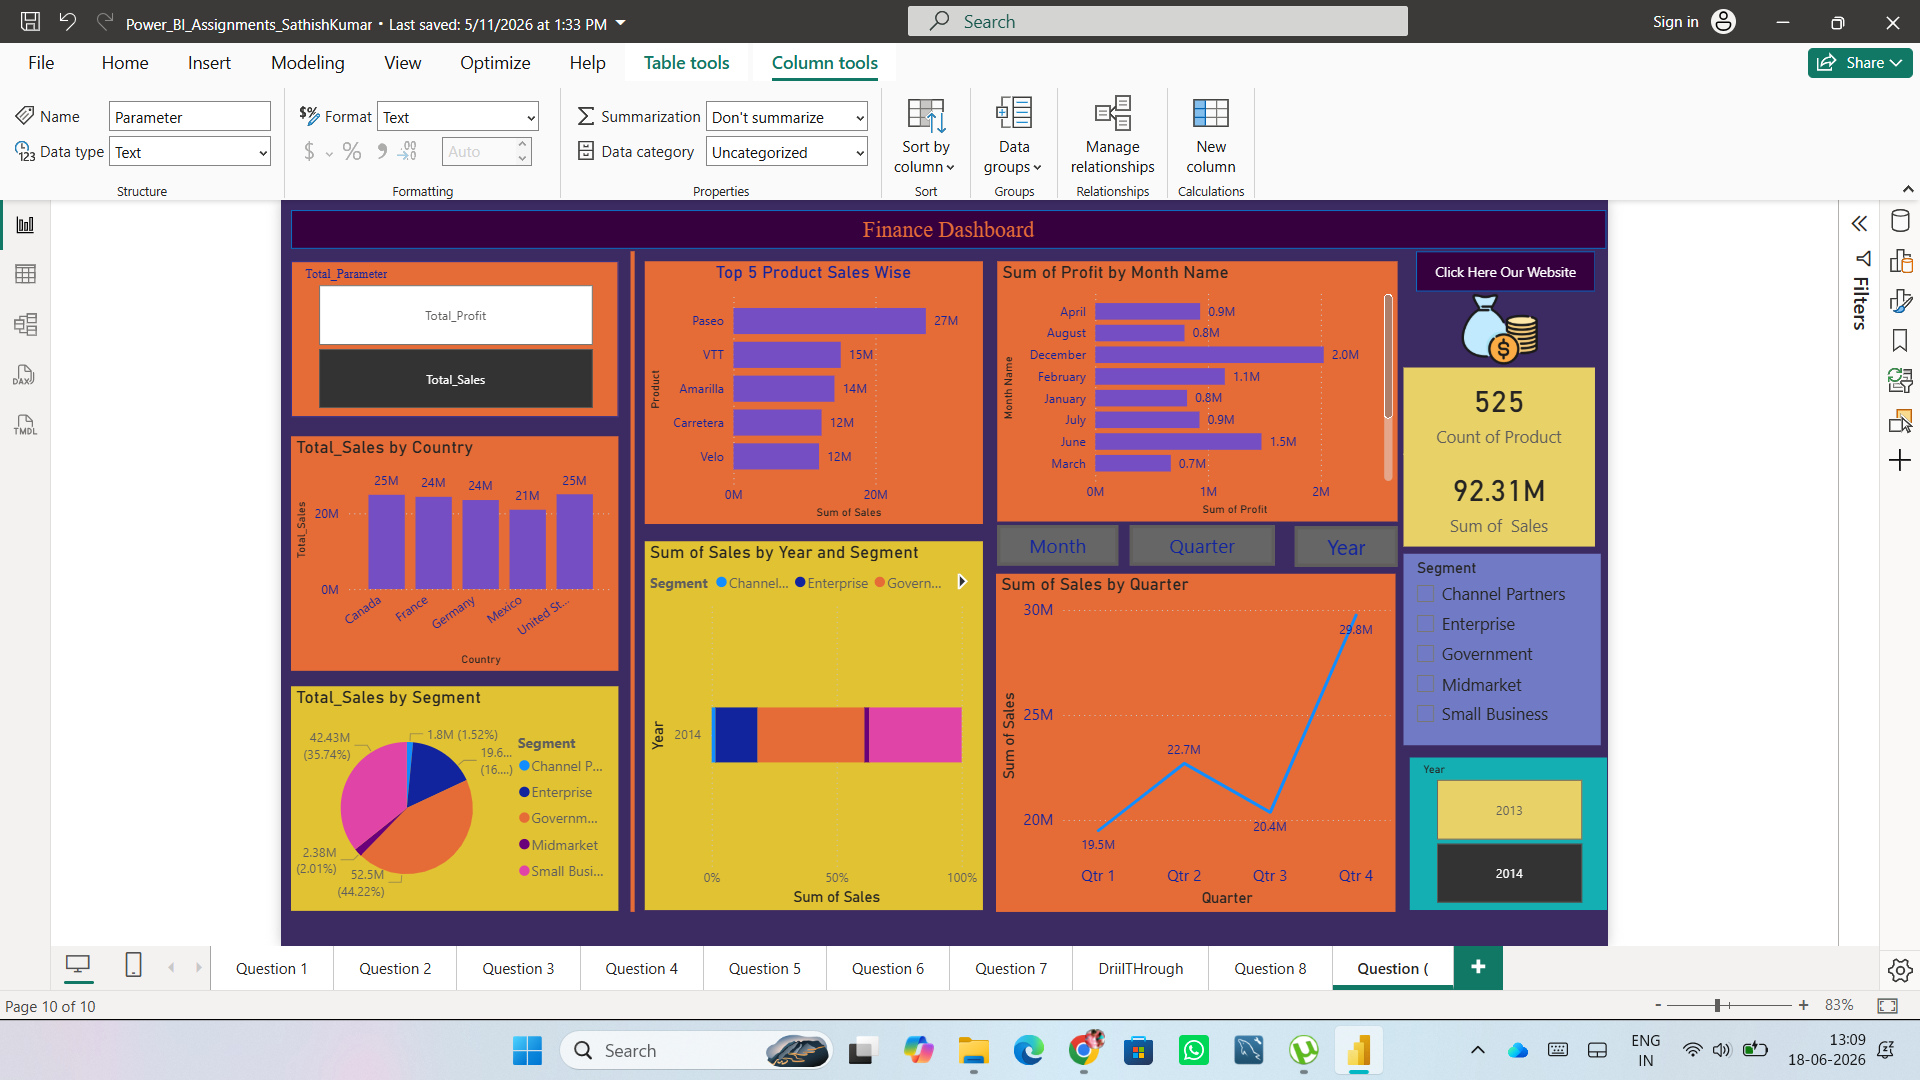

This screenshot's page, from the dashboard's own definition file:
{"tool":"powerbi","page":{"name":"Question (","canvas":[1280,720],"ordinal":9},"visuals":[{"type":"shape","box":[10.1,10.1,1269.6,37.5],"z":0},{"type":"columnChart","fields":{"Y":["financials.Total_Sales"],"Category":["financials.Country"]},"box":[10.1,228,316,226.5],"z":1000},{"type":"slicer","fields":{"Values":["Parameter.Parameter"]},"box":[10.1,59.2,316,150],"z":2000},{"type":"pieChart","fields":{"Y":["financials.Total_Sales"],"Category":["financials.Segment"]},"box":[10.1,468.9,316,216.4],"z":3000},{"type":"clusteredBarChart","title":"Top 5 Product Sales Wise","fields":{"Category":["financials.Product"],"Y":["Sum(financials. Sales)"]},"box":[350.6,59.2,326.1,253.9],"z":4000},{"type":"hundredPercentStackedBarChart","fields":{"Category":["financials.Year"],"Series":["financials.Segment"],"Y":["Sum(financials. Sales)"]},"box":[350.6,328.9,326.1,356.4],"z":5000},{"type":"lineChart","fields":{"Category":["financials.Date.Variation.Date Hierarchy.Year","financials.Date.Variation.Date Hierarchy.Quarter","financials.Date.Variation.Date Hierarchy.Month","financials.Date.Variation.Date Hierarchy.Day"],"Y":["Sum(financials. Sales)"]},"box":[690.4,360.6,386,326.2],"z":6000},{"type":"actionButton","box":[691.1,313.1,116.9,39],"z":7000},{"type":"actionButton","box":[819.5,313.1,139.9,39],"z":8000},{"type":"actionButton","box":[978.2,314.5,99.6,39],"z":9000},{"type":"clusteredBarChart","fields":{"Category":["financials.Month Name"],"Y":["Sum(financials.Profit)"]},"box":[691.1,59.2,386.7,251],"z":10000},{"type":"shape","box":[315.3,48.9,48.9,637.8],"z":11000},{"type":"slicer","fields":{"Values":["financials.Year"]},"box":[1089.3,538.2,190.4,147.2],"z":12000},{"type":"slicer","fields":{"Values":["financials.Segment"]},"box":[1083.5,341.9,190.4,184.7],"z":13000},{"type":"card","fields":{"Values":["Sum(financials. Sales)"]},"box":[1083.5,245.3,184.7,89.5],"z":14000},{"type":"card","fields":{"Values":["CountNonNull(financials.Product)"]},"box":[1083.5,161.6,184.7,83.7],"z":15000},{"type":"image","box":[1095.1,88,161.6,73.6],"z":16000},{"type":"shape","box":[1095.1,49.1,173.1,39],"z":17000}]}

Visuals, with their boxes on the page's 1280x720 design canvas (x1, y1, x2, y2). These are canvas units, not pixel positions in the 1920x1080 screenshot, which may show the page scaled, cropped or inside an application window:
shape: crop(10, 10, 1280, 48)
columnChart - financials.Total_Sales x financials.Country: crop(10, 228, 326, 454)
slicer - Parameter.Parameter: crop(10, 59, 326, 209)
pieChart - financials.Total_Sales x financials.Segment: crop(10, 469, 326, 685)
"Top 5 Product Sales Wise" clusteredBarChart: crop(351, 59, 677, 313)
hundredPercentStackedBarChart - financials.Year x financials.Segment: crop(351, 329, 677, 685)
lineChart - financials.Date.Variation.Date Hierarchy.Year x financials.Date.Variation.Date Hierarchy.Quarter: crop(690, 361, 1076, 687)
actionButton: crop(691, 313, 808, 352)
actionButton: crop(820, 313, 959, 352)
actionButton: crop(978, 314, 1078, 354)
clusteredBarChart - financials.Month Name x Sum(financials.Profit): crop(691, 59, 1078, 310)
shape: crop(315, 49, 364, 687)
slicer - financials.Year: crop(1089, 538, 1280, 685)
slicer - financials.Segment: crop(1084, 342, 1274, 527)
card - Sum(financials. Sales): crop(1084, 245, 1268, 335)
card - CountNonNull(financials.Product): crop(1084, 162, 1268, 245)
image: crop(1095, 88, 1257, 162)
shape: crop(1095, 49, 1268, 88)
